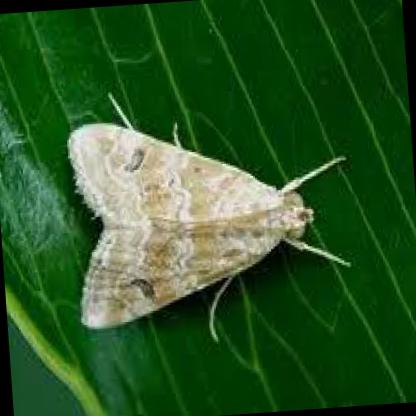Hellula undalis: (60, 86, 360, 353)
